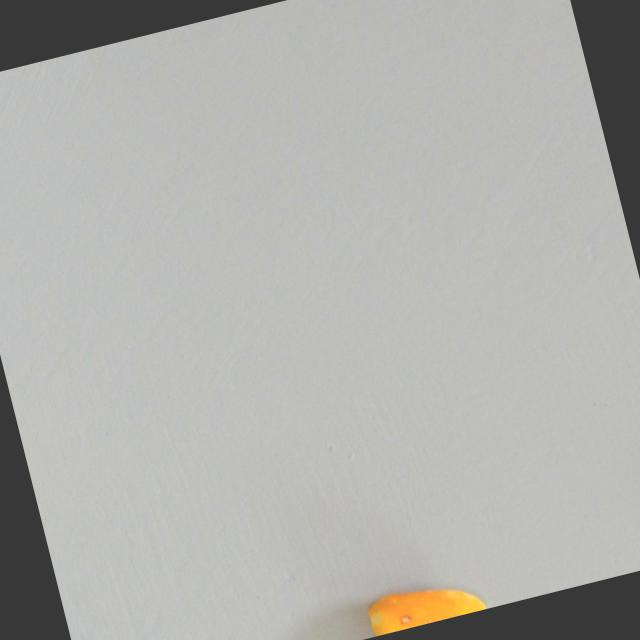dañado: (355, 558, 495, 638)
